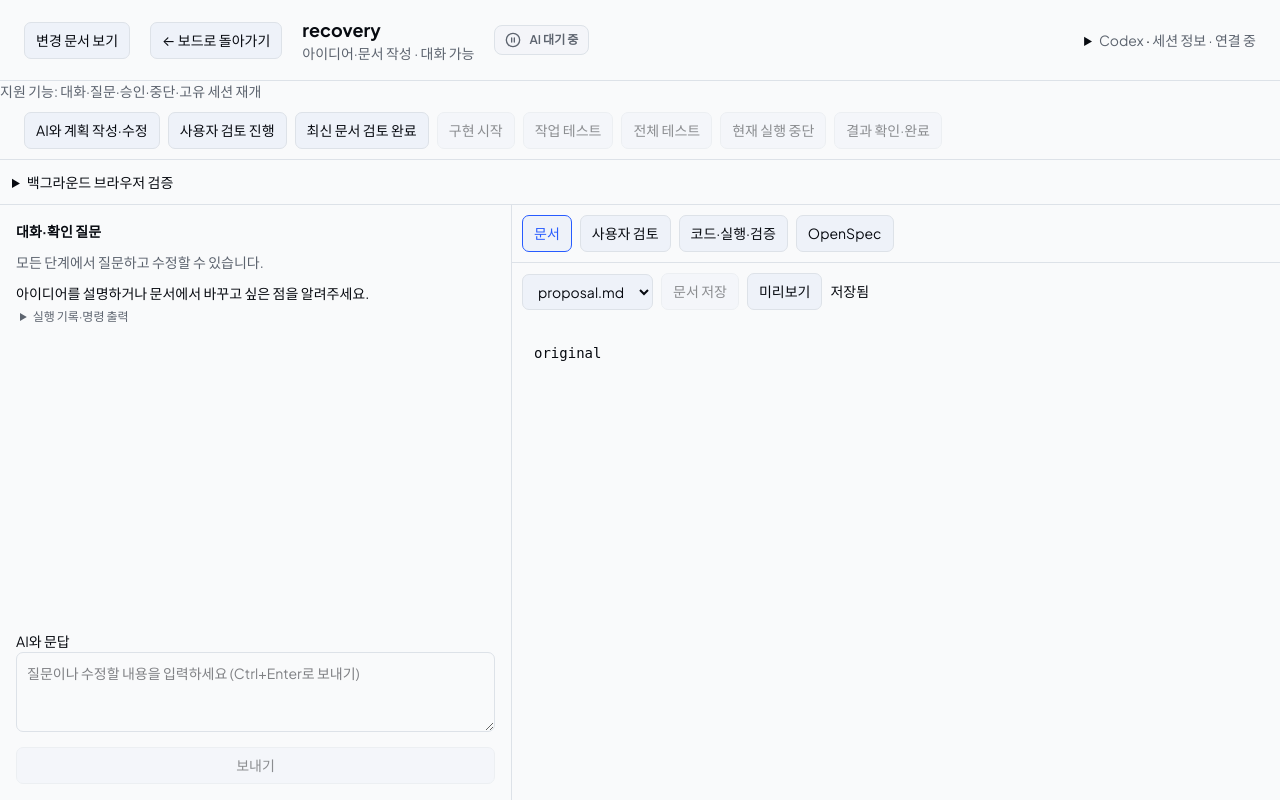
retains a clean document screen when normal close cannot flush a message draft
This screenshot has width=1280, height=800.
expect the text box named "문서 내용" is shown: met, box [512,320,1279,799]
In the text box labelled "AI와 문답": (256, 692) [16,652,495,732], type "must preserve this message"
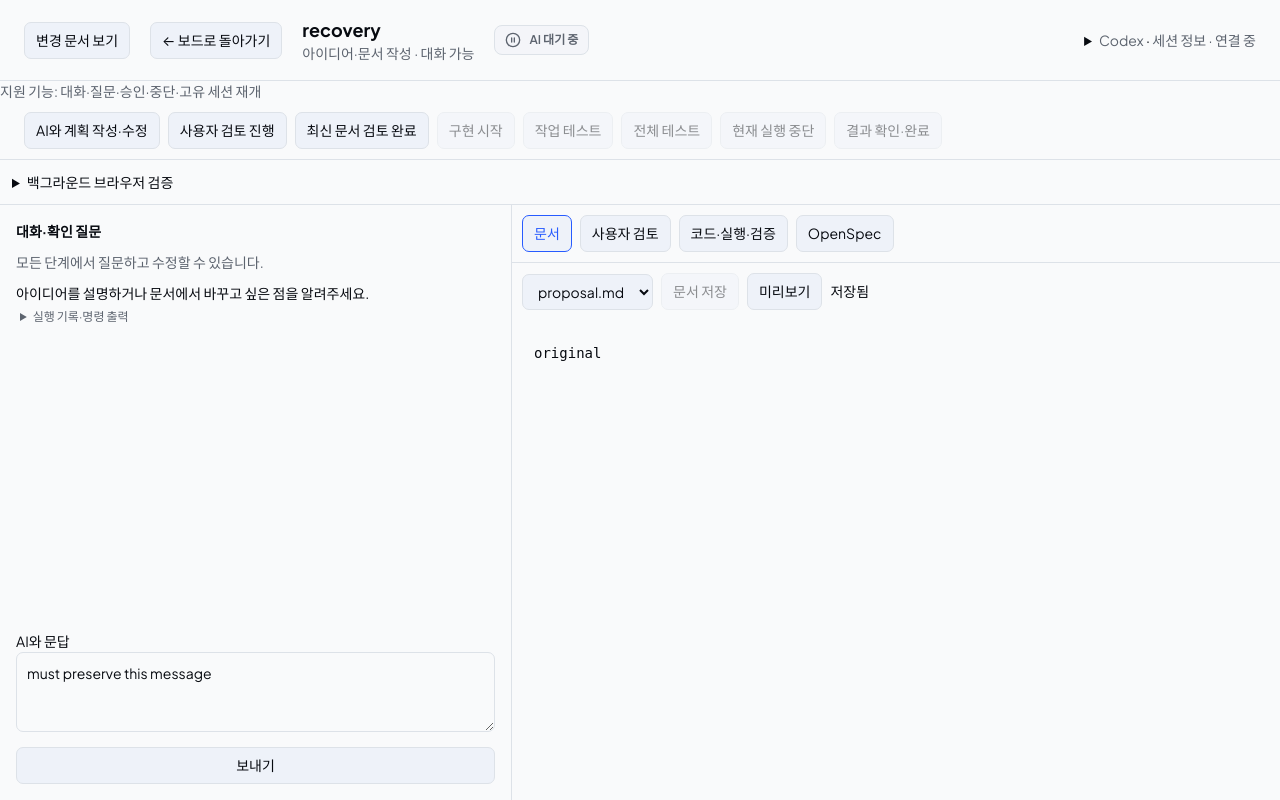
Click the button "← 보드로 돌아가기": (216, 40) [150,22,282,58]
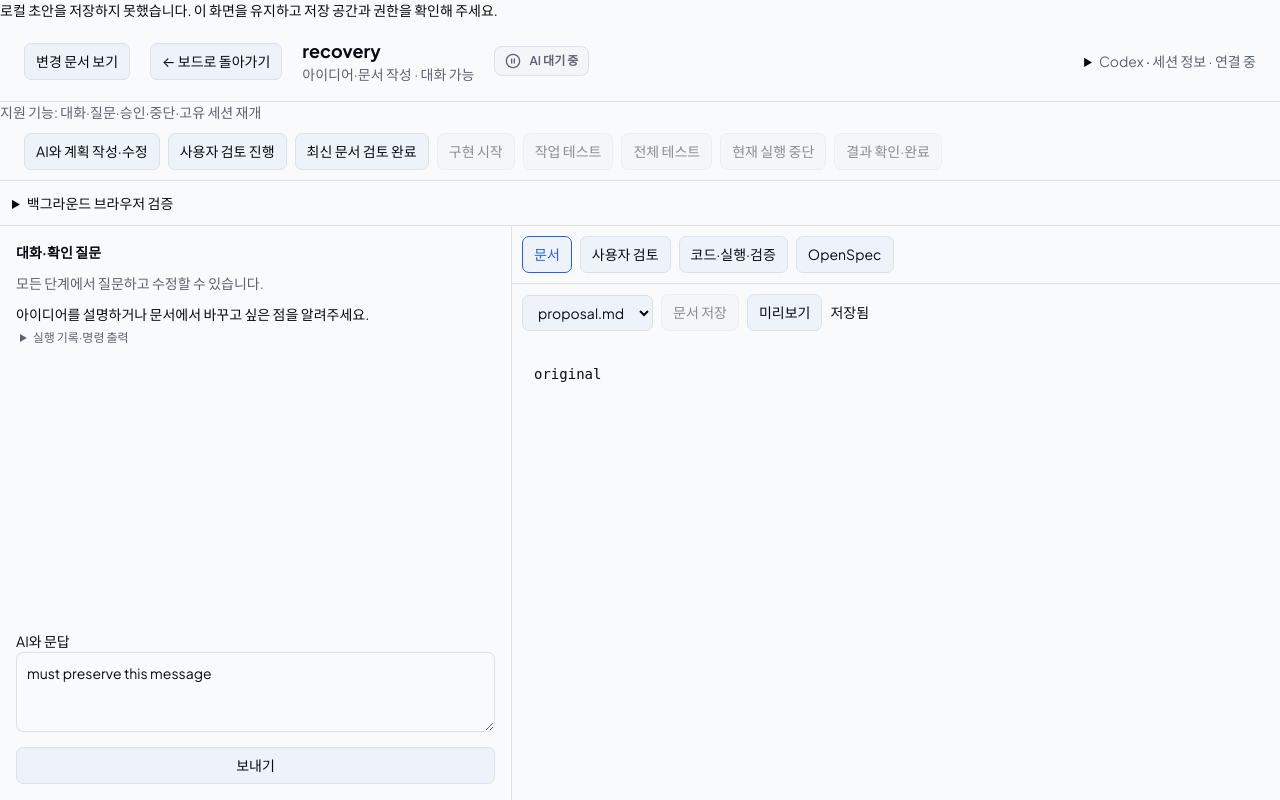
expect the text "로컬 초안을 저장하지 못했습니다. 이 화면을 유지하고 저장 공간과 권한을 확인해 주세요." is shown: met, box [0,1,498,19]
